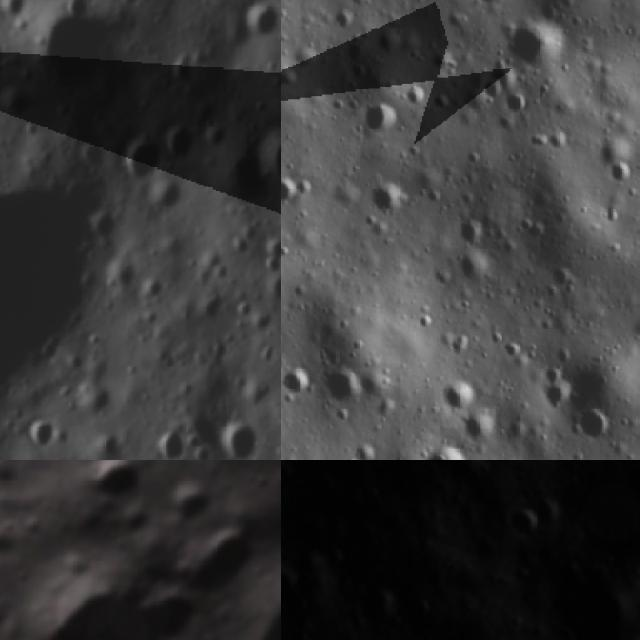crater: (0, 181, 112, 389), (30, 11, 124, 94), (541, 579, 625, 640), (501, 10, 566, 76), (281, 544, 316, 629), (158, 470, 211, 525), (253, 115, 281, 201), (221, 151, 261, 210), (215, 414, 264, 460), (72, 460, 126, 500), (348, 589, 393, 633), (321, 364, 363, 411), (126, 139, 162, 191), (504, 499, 543, 546), (572, 403, 614, 446), (281, 362, 318, 405), (371, 179, 410, 219), (242, 2, 281, 41), (457, 250, 496, 288), (435, 378, 477, 413), (536, 381, 580, 414), (361, 98, 399, 136), (462, 410, 501, 447), (152, 423, 189, 460), (374, 24, 409, 62), (604, 158, 640, 193), (453, 213, 487, 249), (27, 418, 61, 453), (168, 127, 197, 164), (500, 88, 533, 120), (477, 73, 508, 102), (421, 444, 475, 460), (331, 3, 358, 34), (404, 80, 431, 109), (60, 0, 97, 21), (535, 362, 566, 387), (93, 435, 125, 459), (349, 437, 382, 460), (374, 400, 404, 422), (292, 175, 320, 198), (281, 170, 297, 207), (499, 338, 525, 360), (463, 0, 520, 10), (281, 324, 293, 364)
